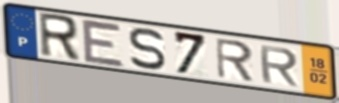7: (172, 29, 209, 76)
E: (79, 17, 127, 70)
R: (36, 11, 83, 64), (213, 37, 256, 84), (257, 44, 301, 88)
S: (127, 26, 168, 72)
